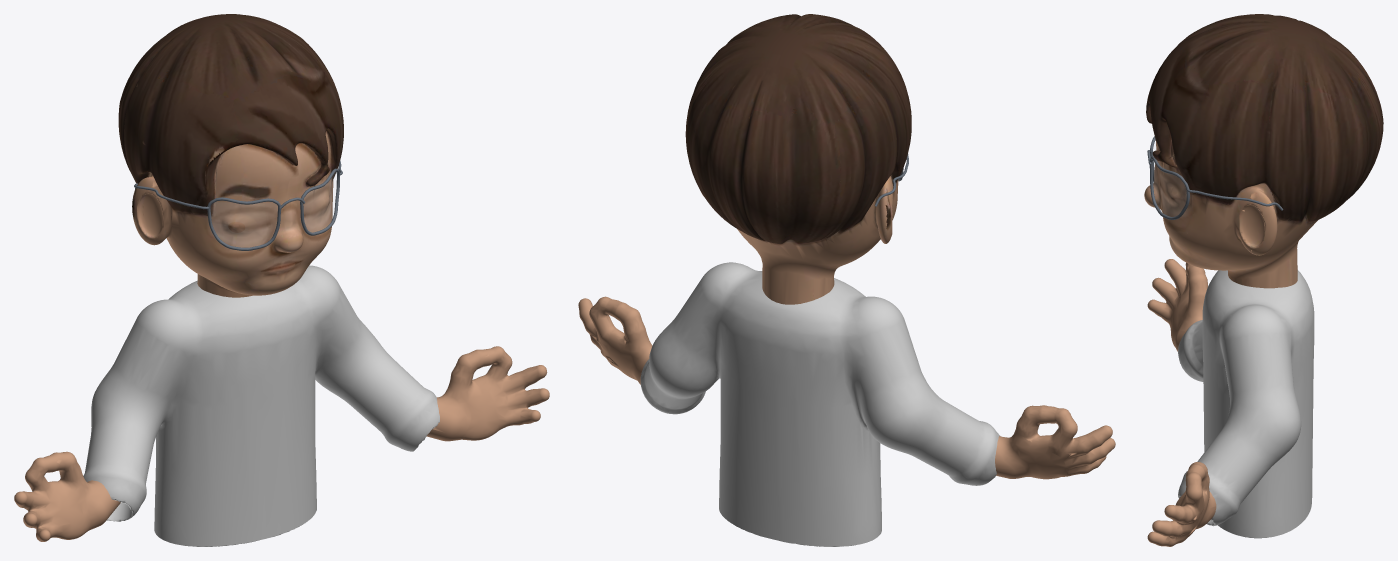
File: memoji.glb
3 renders of one model, left to right at view 1: azimuth 30°, elevation 25°; view 2: azimuth 150°, elevation 25°; view 3: azimuth 270°, elevation 25°, orthographic. The views are drawn at different scales.
Visible parts, largest first — view 1: sweater, head, handL, glasses; view 2: sweater, head, handL; view 3: head, sweater, handL, glasses.
Part boxes in pixels (x1,y1,x2,y2): sweater: [83, 265, 439, 546]; head: [118, 14, 343, 297]; handL: [14, 346, 549, 541]; glasses: [134, 161, 342, 250]; sweater: [640, 262, 1000, 546]; head: [685, 14, 911, 304]; handL: [578, 296, 1115, 479]; head: [1144, 14, 1383, 288]; sweater: [1178, 270, 1314, 538]; handL: [1147, 259, 1216, 546]; glasses: [1147, 136, 1283, 219].
Size of the model in its own units: 3.99 by 3.54 by 1.6.
Materials: 5 (1 with a texture image).
